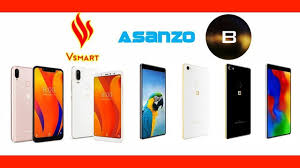vsmart: (28, 65, 68, 144), (136, 63, 171, 142), (220, 64, 255, 143), (261, 63, 296, 142), (180, 62, 215, 141), (92, 67, 127, 146), (7, 63, 34, 148)
